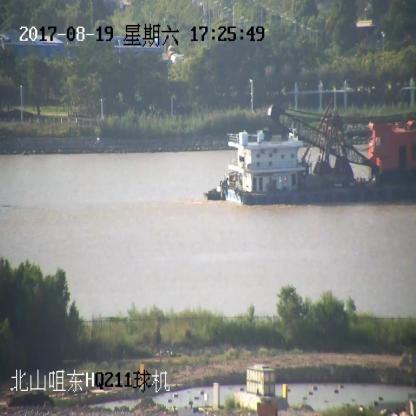Fishing Boat: (204, 102, 416, 208)
